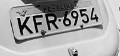placa_antiga: (9, 0, 103, 42)
